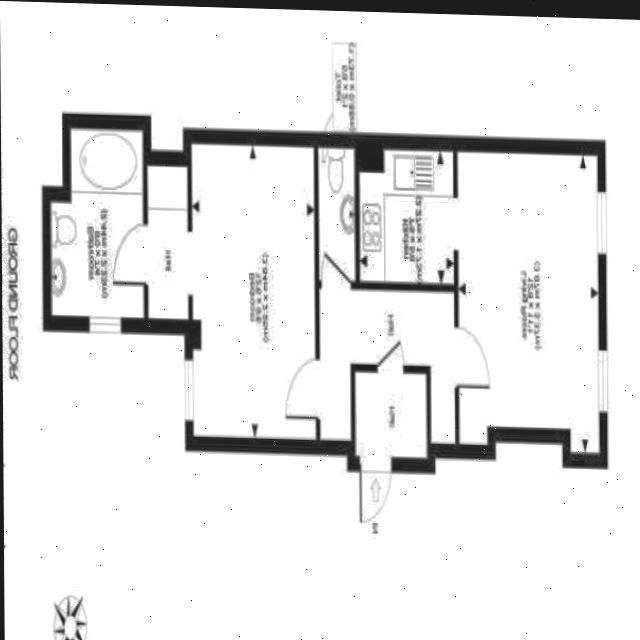room: (458, 154, 599, 452), (191, 143, 315, 439), (319, 289, 456, 440), (49, 128, 144, 319), (359, 150, 454, 283), (148, 163, 187, 318), (356, 373, 426, 456), (318, 147, 356, 280)
